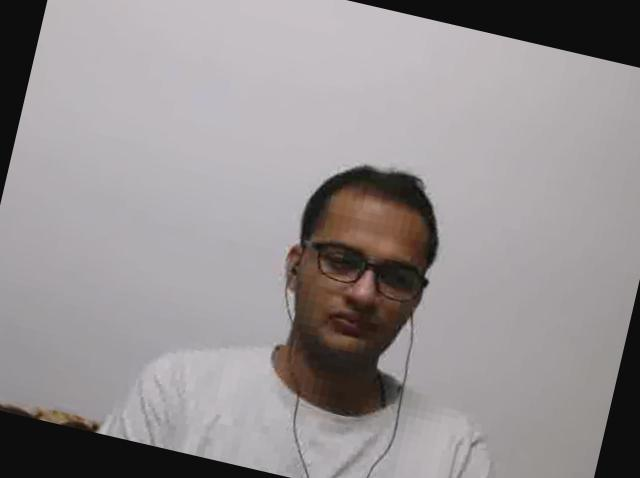bingung: (282, 194, 432, 372)
